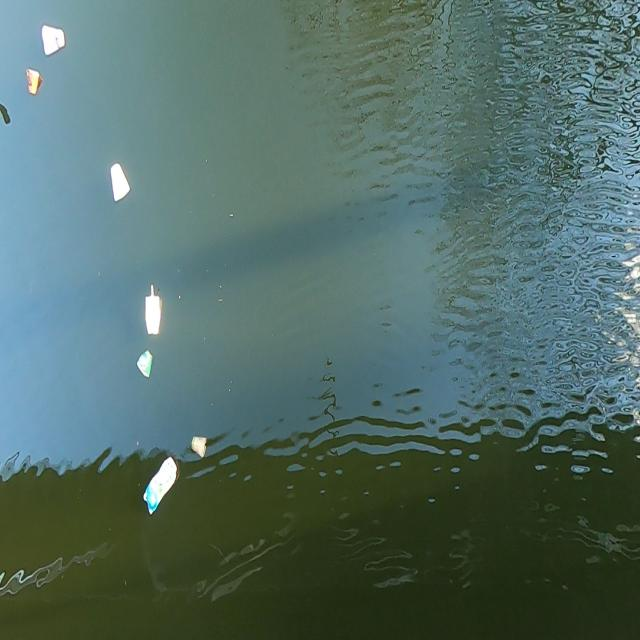Non plastique: (140, 448, 183, 528), (140, 282, 164, 342), (106, 159, 135, 205), (36, 23, 69, 61), (185, 428, 213, 464), (22, 66, 45, 103), (134, 347, 155, 386)
